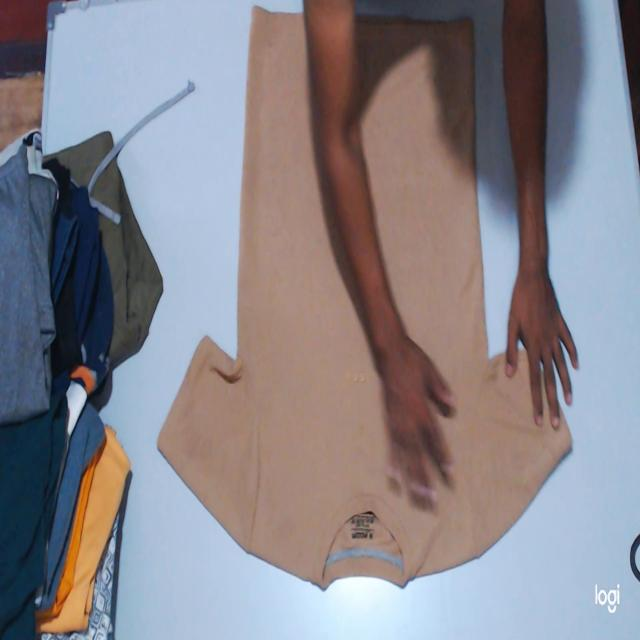new-garment: (159, 8, 571, 586)
